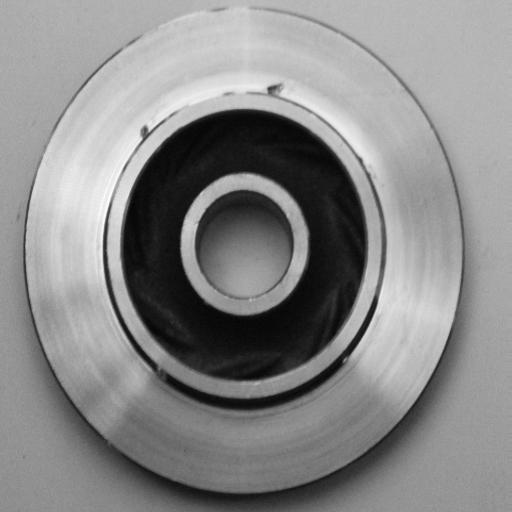crack: (260, 77, 294, 103), (135, 119, 161, 144)
unpolished_casting: (23, 7, 470, 499)
